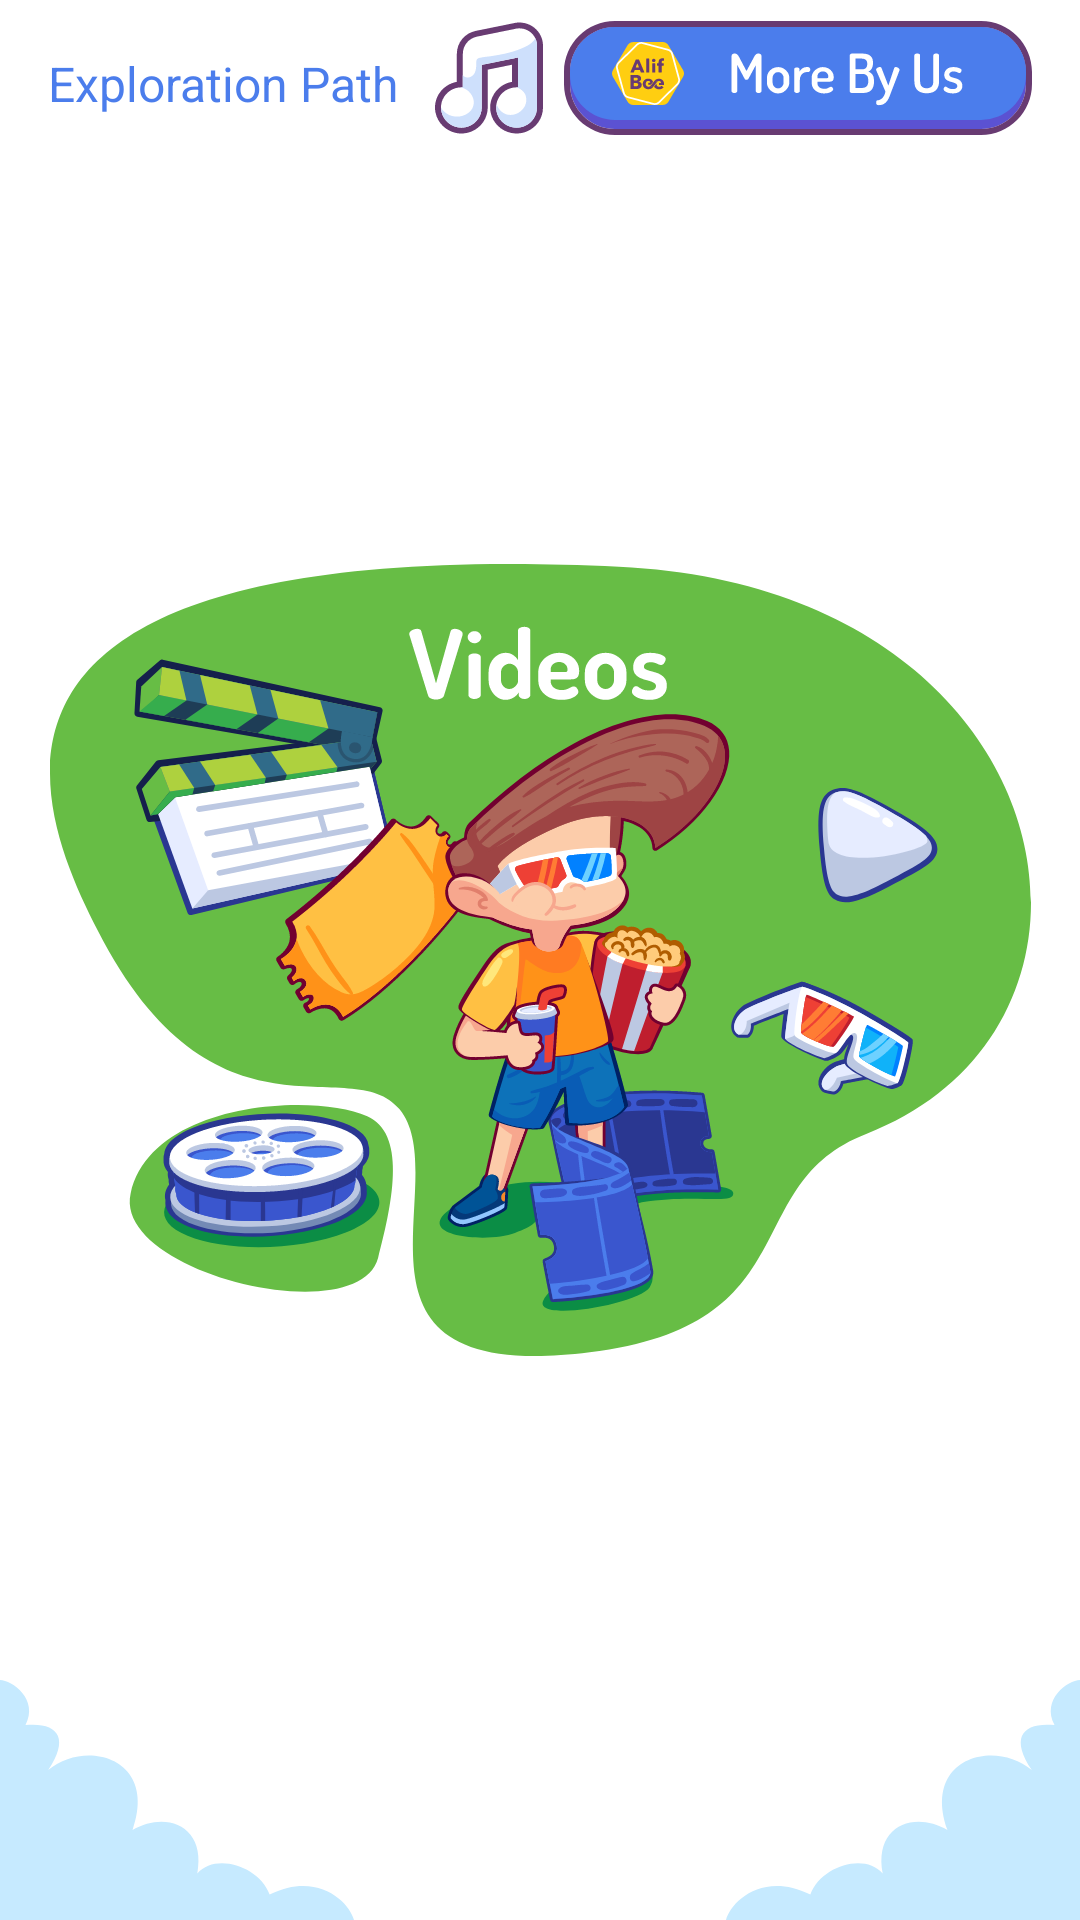

Locate icon controls on the screen. Image size 1080px×1920px, boxes as (x1, y1, x2, y2).
buttomcloudl: (0, 1680, 354, 1920)
buttomcloudr: (726, 1680, 1080, 1920)
